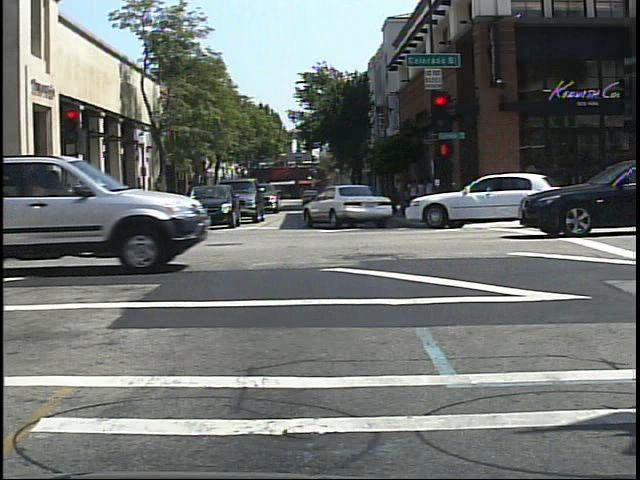person: (116, 181, 135, 220)
